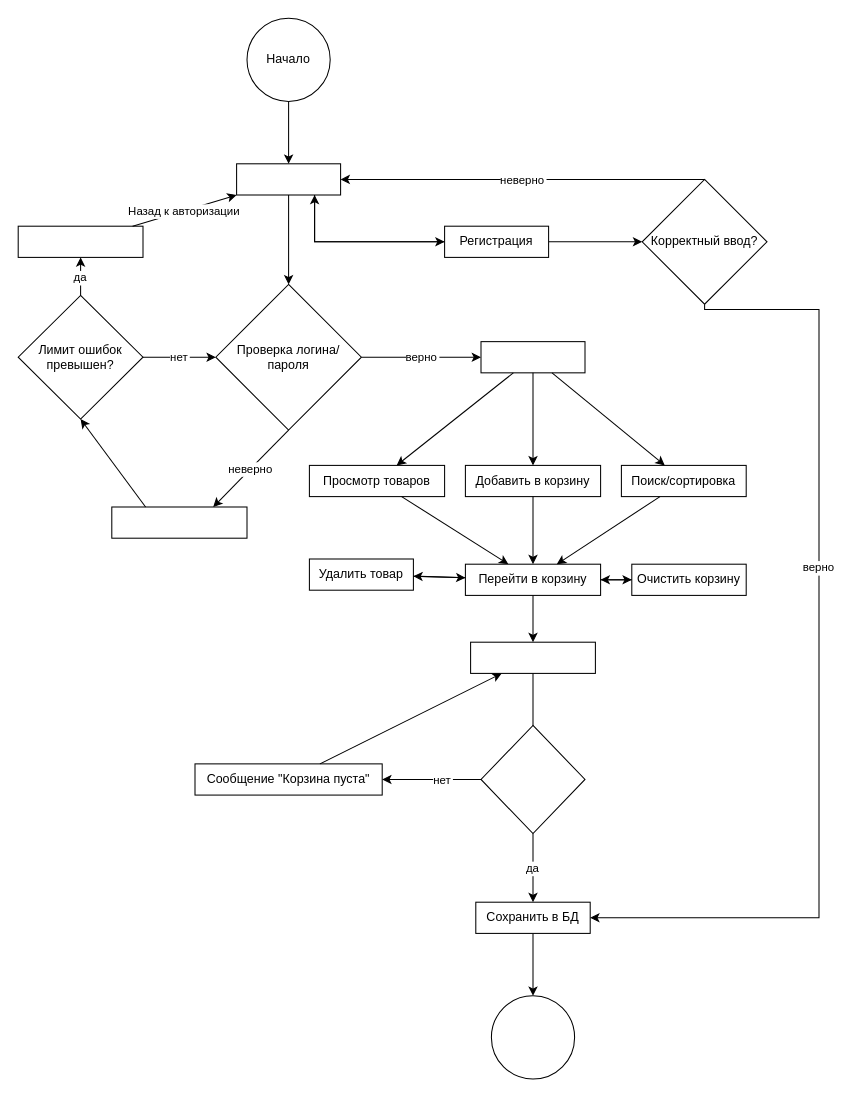
This 854x1097 diagram has some shape labels left out. Each missing label, with the centre of its shape:
Блокировка 5 мин: the point at 80,241
Главное окно: the point at 532,357
Главное окно авторизации: the point at 288,179
Конец: the point at 532,1037
Корзина не пуста?: the point at 532,779
Оформить заказ: the point at 532,657
Увеличить счетчик: the point at 179,522
